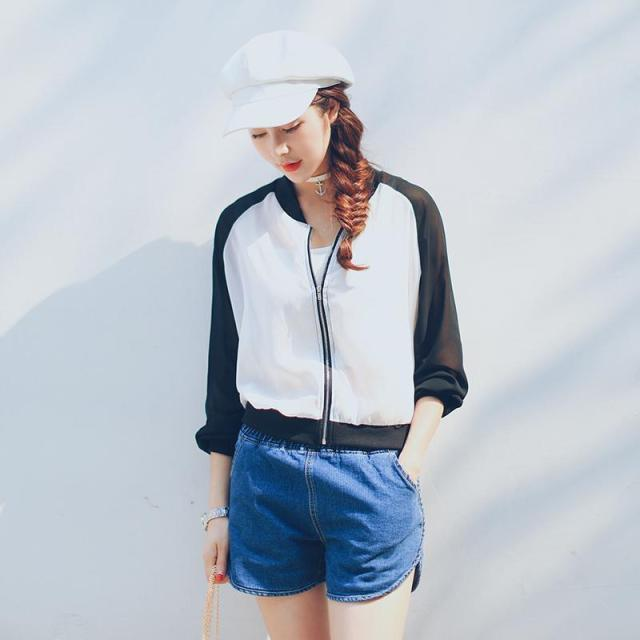long sleeve top: (206, 167, 462, 455)
shorts: (230, 409, 421, 597)
